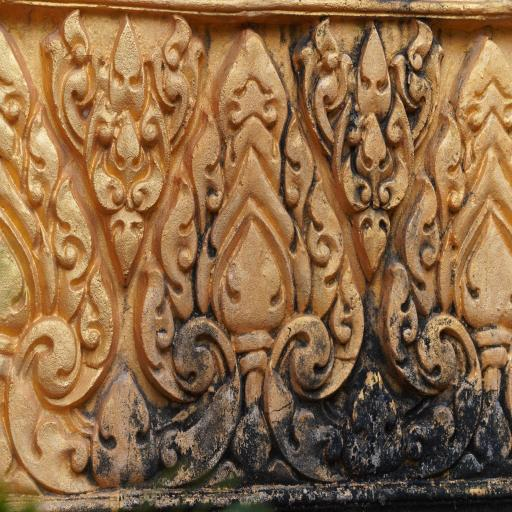lua: (144, 18, 360, 436), (0, 26, 115, 488), (377, 34, 512, 420), (44, 18, 200, 271), (297, 18, 443, 268)
